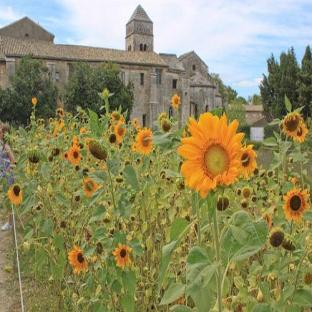sunflower: (177, 112, 268, 312)
